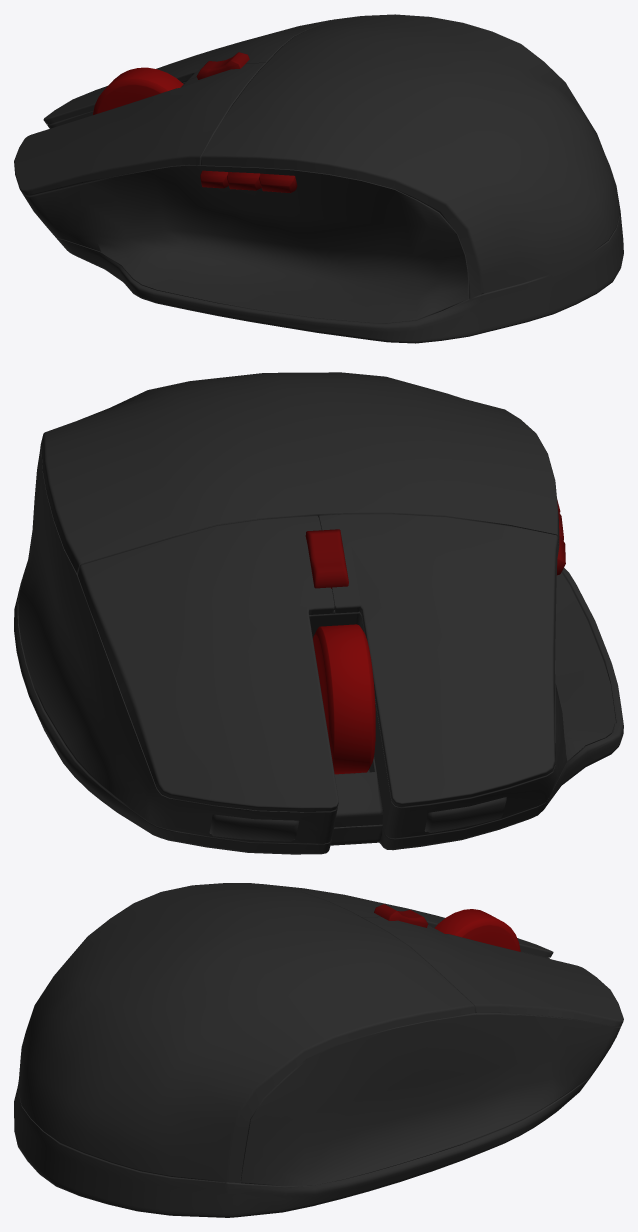
The model's file is gaming_mouse.glb.
3 views of the same model, one above another, from view 1: azimuth 30°, elevation 25°; view 2: azimuth 150°, elevation 25°; view 3: azimuth 270°, elevation 25° (orthographic). The views are drawn at different scales.
Visible parts, largest first — view 1: gaming_mouse; view 2: gaming_mouse; view 3: gaming_mouse.
Boxes of the visible parts, x1,y1,x2,y2 form: gaming_mouse: (14,14,623,343); gaming_mouse: (14,372,623,854); gaming_mouse: (14,883,623,1217).
Bounding box in the file's own units: 0.1188 × 0.044 × 0.1285.
